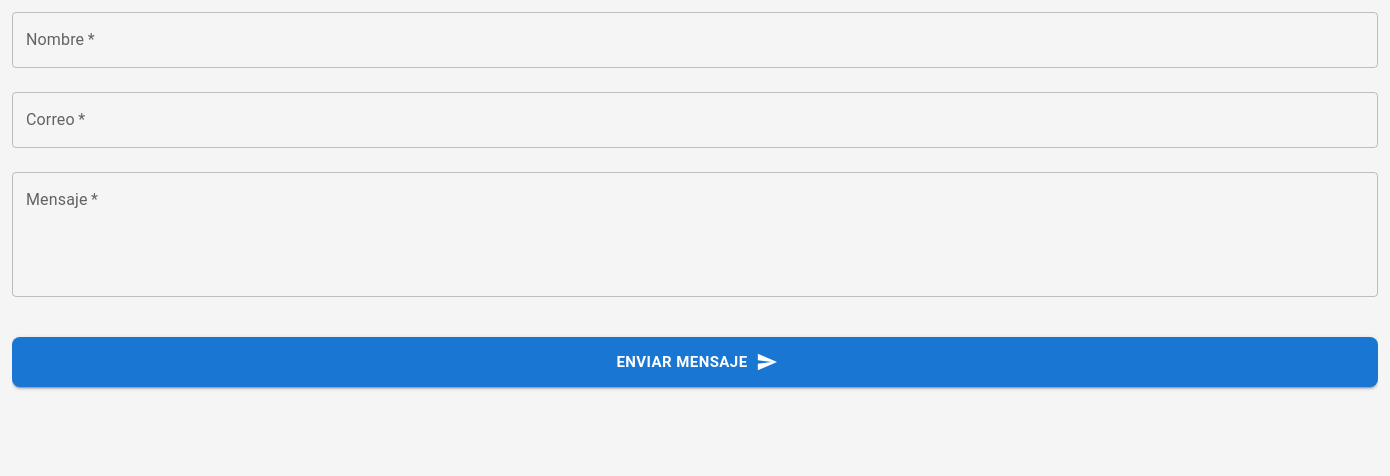
Test: ContactForm › validates in the site language instead of the browser bubbles, and focuses the first problem
Type "nope" into the field labelled "Correo *" at (695, 120), box [12,92,1378,148]
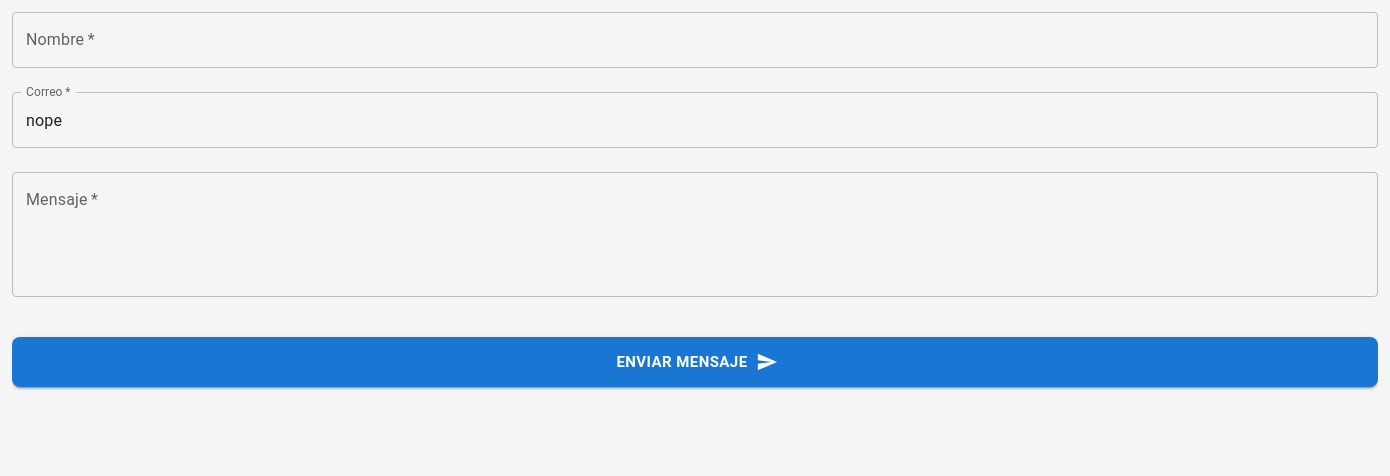
Submit the form
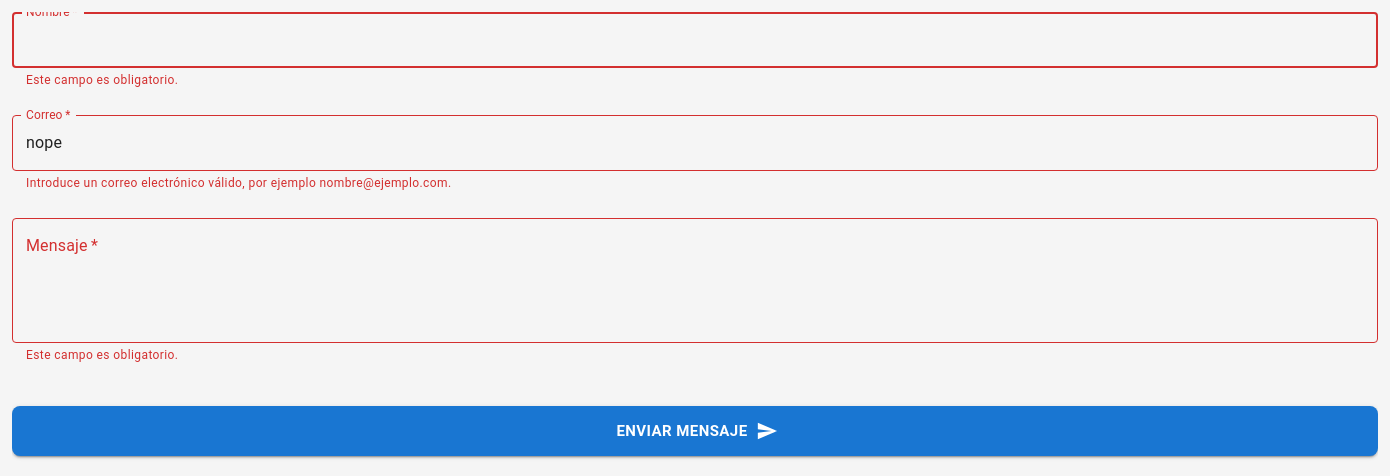
Expected: the text "Este campo es obligatorio." is shown 2 times, [26,73,178,87]; [26,348,178,362]
Expected: the text "Introduce un correo electrónico válido" is shown, [26,176,452,190]
